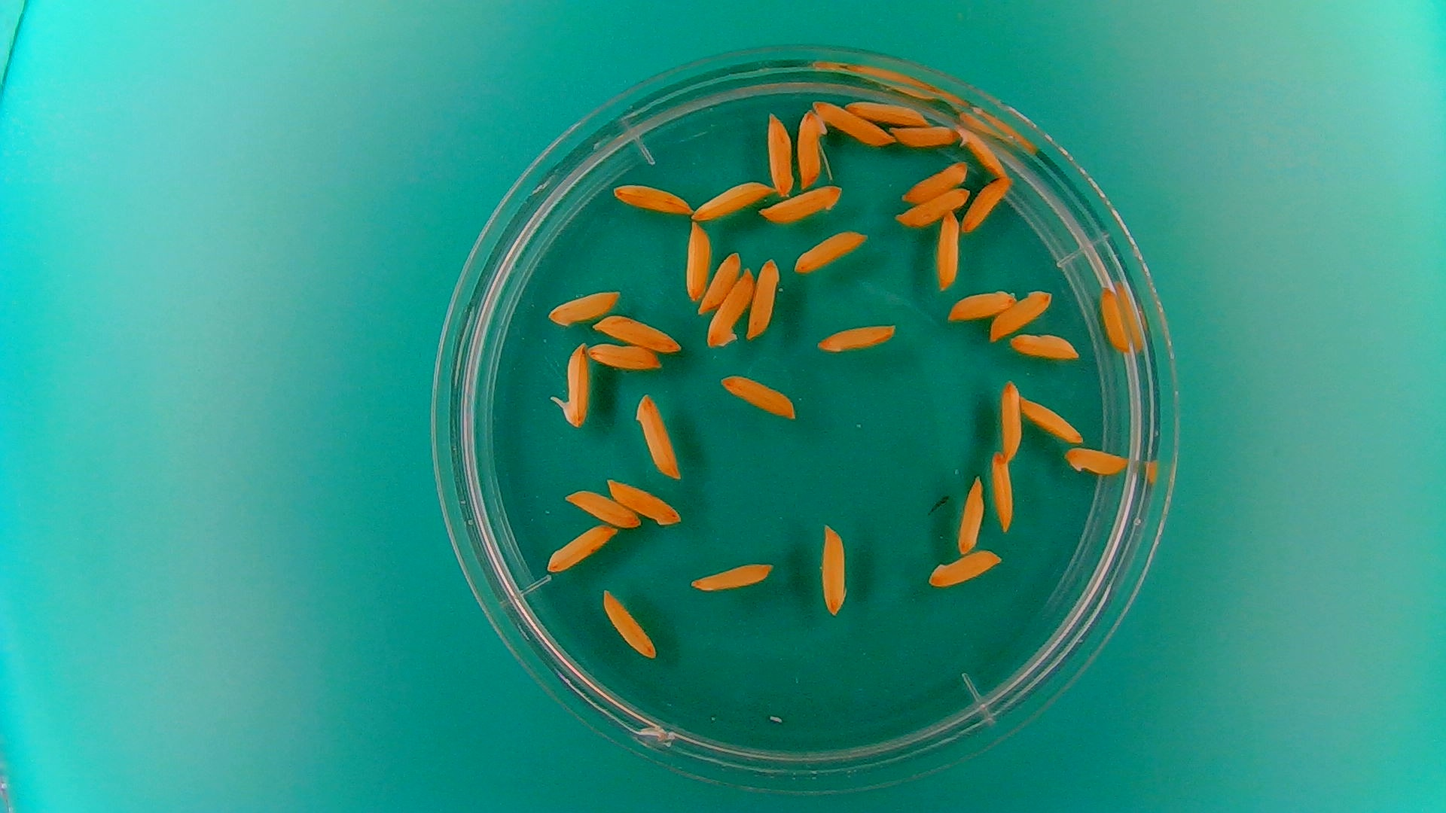no: (706, 265, 757, 351), (599, 587, 658, 661), (633, 392, 682, 480), (812, 99, 892, 148), (544, 522, 619, 574), (606, 477, 682, 527), (717, 373, 799, 419), (591, 312, 682, 353), (691, 178, 773, 222), (758, 184, 846, 224), (792, 227, 868, 273), (989, 287, 1053, 341), (609, 178, 694, 218), (1019, 395, 1086, 445), (926, 547, 1005, 589), (898, 158, 972, 202), (896, 186, 972, 228), (818, 520, 850, 617), (563, 489, 642, 528), (961, 174, 1012, 234), (746, 256, 782, 340), (698, 247, 742, 315), (545, 288, 621, 327), (688, 559, 775, 593), (816, 320, 898, 354), (953, 472, 987, 554), (953, 124, 1005, 177), (795, 108, 829, 188), (1097, 284, 1133, 356), (766, 110, 795, 199), (844, 99, 931, 128), (682, 222, 713, 303), (1057, 447, 1132, 480), (946, 288, 1016, 322), (1008, 331, 1082, 363), (934, 207, 962, 291), (989, 451, 1017, 532), (996, 377, 1023, 461), (586, 342, 660, 371), (889, 123, 959, 149)
yes: (555, 346, 592, 430)
